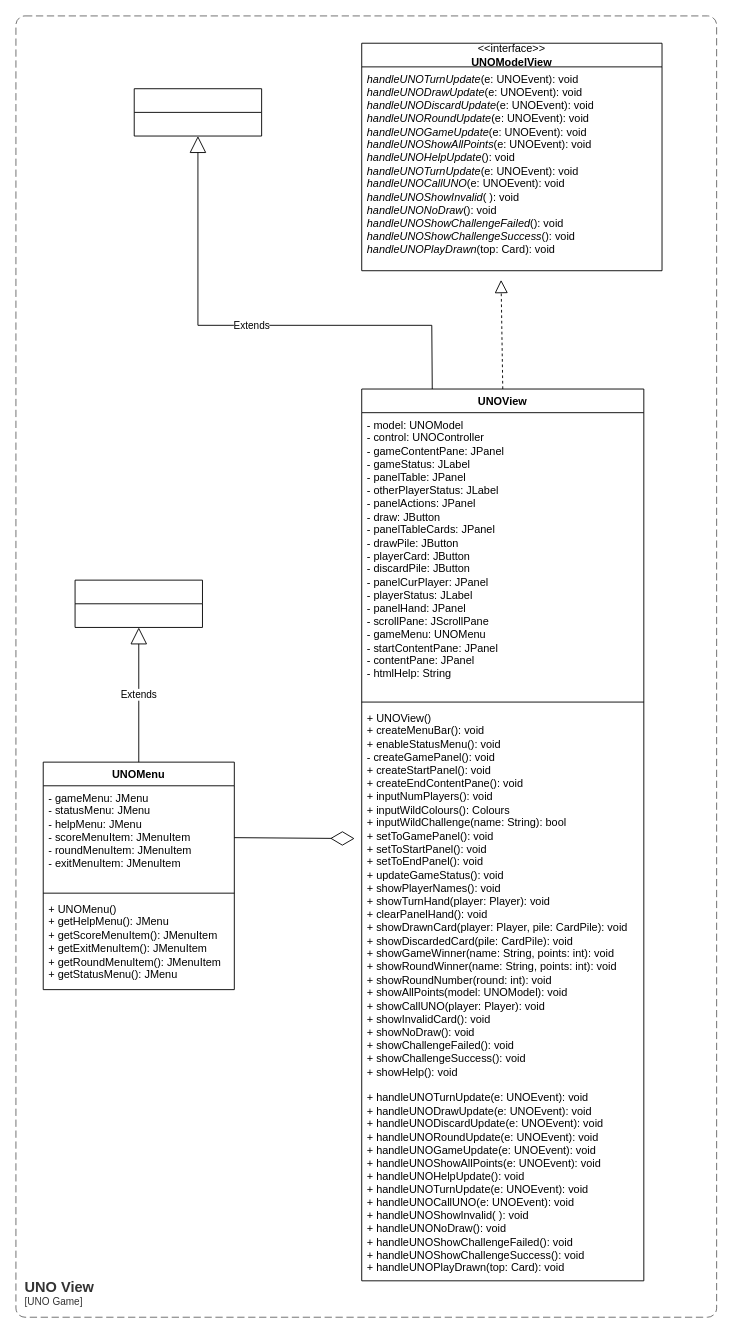
The diagram is 733 pixels wide and 1333 high, and some of its shapes have lost their labels. Each missing label, with the box of its shape:
JFrame: (133, 88, 262, 136)
JMenuBar: (74, 579, 202, 627)
